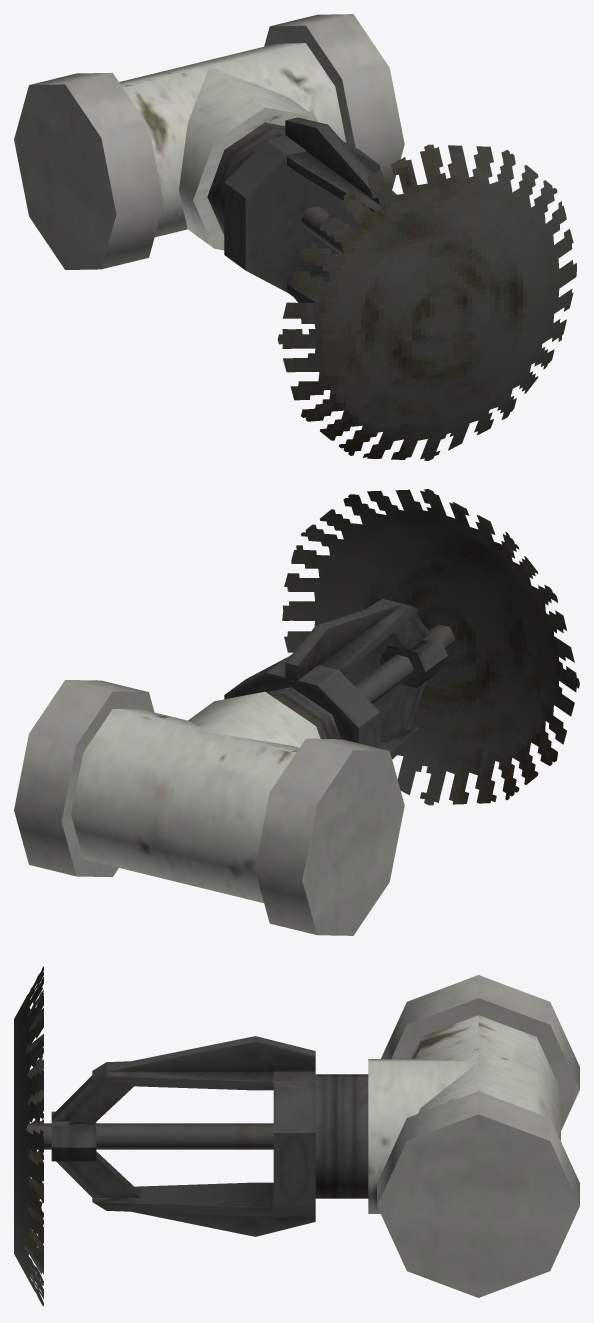
The model's file is p6_garage_pipes_sprinkler_LOD0.obj.
3 renders of one model, top to bottom at view 1: azimuth 30°, elevation 25°; view 2: azimuth 150°, elevation 25°; view 3: azimuth 270°, elevation 25°, orthographic.
Parts seen in each view (by area): view 1: mtl_p6_pipes_garage_sprinkler_top, mtl_p6_pipes_garage, mtl_p6_pipes_garage_details; view 2: mtl_p6_pipes_garage, mtl_p6_pipes_garage_sprinkler_top, mtl_p6_pipes_garage_details; view 3: mtl_p6_pipes_garage, mtl_p6_pipes_garage_details, mtl_p6_pipes_garage_sprinkler_top.
Boxes of the visible parts, left/top/right/bottom form: mtl_p6_pipes_garage_sprinkler_top: left=277, top=144, right=576, bottom=460; mtl_p6_pipes_garage: left=14, top=14, right=404, bottom=269; mtl_p6_pipes_garage_details: left=207, top=117, right=396, bottom=302; mtl_p6_pipes_garage: left=14, top=680, right=404, bottom=935; mtl_p6_pipes_garage_sprinkler_top: left=282, top=489, right=579, bottom=805; mtl_p6_pipes_garage_details: left=224, top=599, right=455, bottom=759; mtl_p6_pipes_garage: left=368, top=975, right=579, bottom=1297; mtl_p6_pipes_garage_details: left=26, top=1036, right=368, bottom=1236; mtl_p6_pipes_garage_sprinkler_top: left=14, top=966, right=43, bottom=1306.
Bounding box in the file's own units: 11.12 × 11.12 × 18.21.
